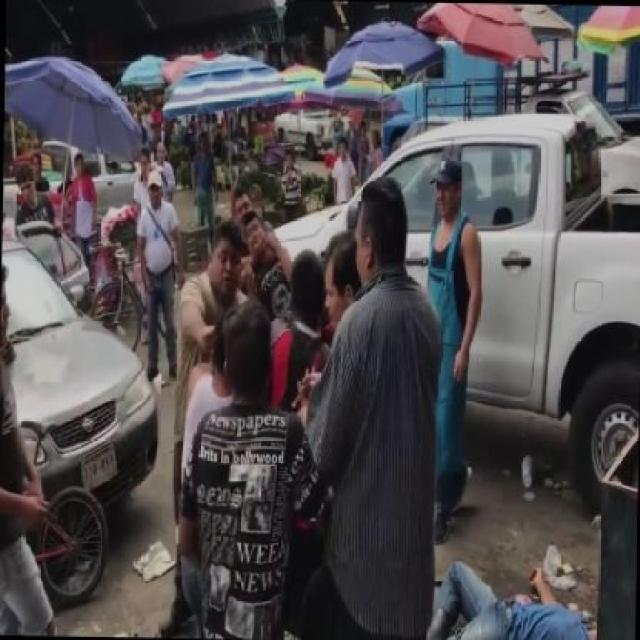fight: (158, 240, 334, 638)
non-fight: (284, 166, 468, 639)
